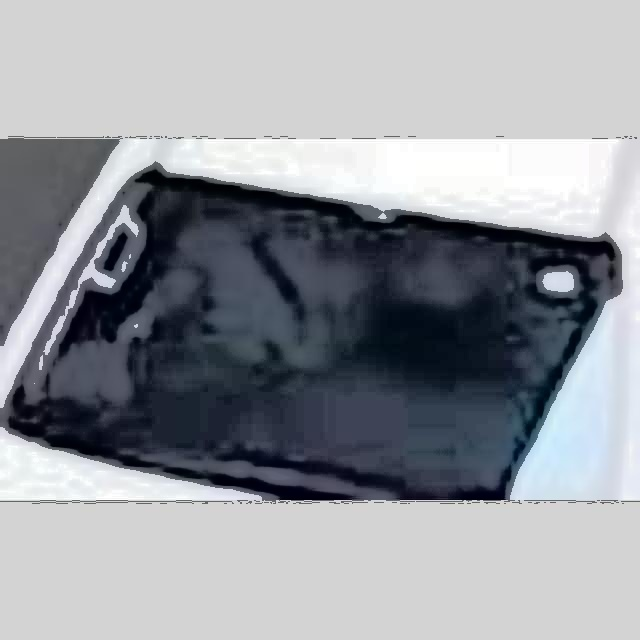pakai: (165, 215, 406, 367)
